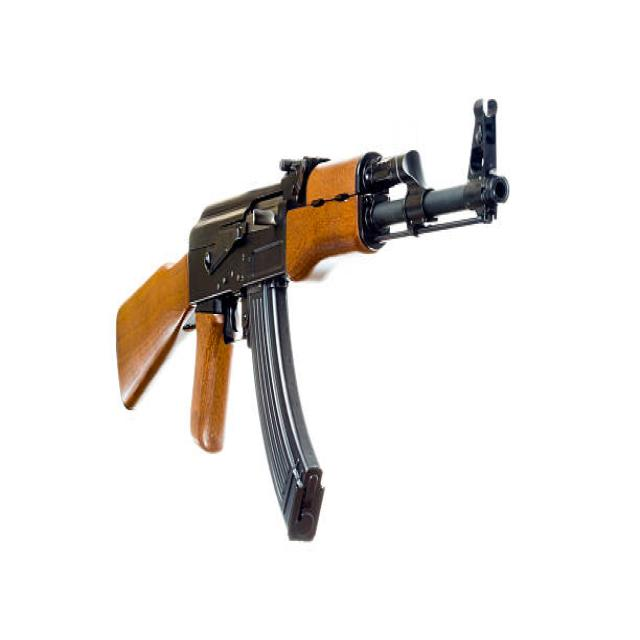rifle: (108, 93, 516, 549)
